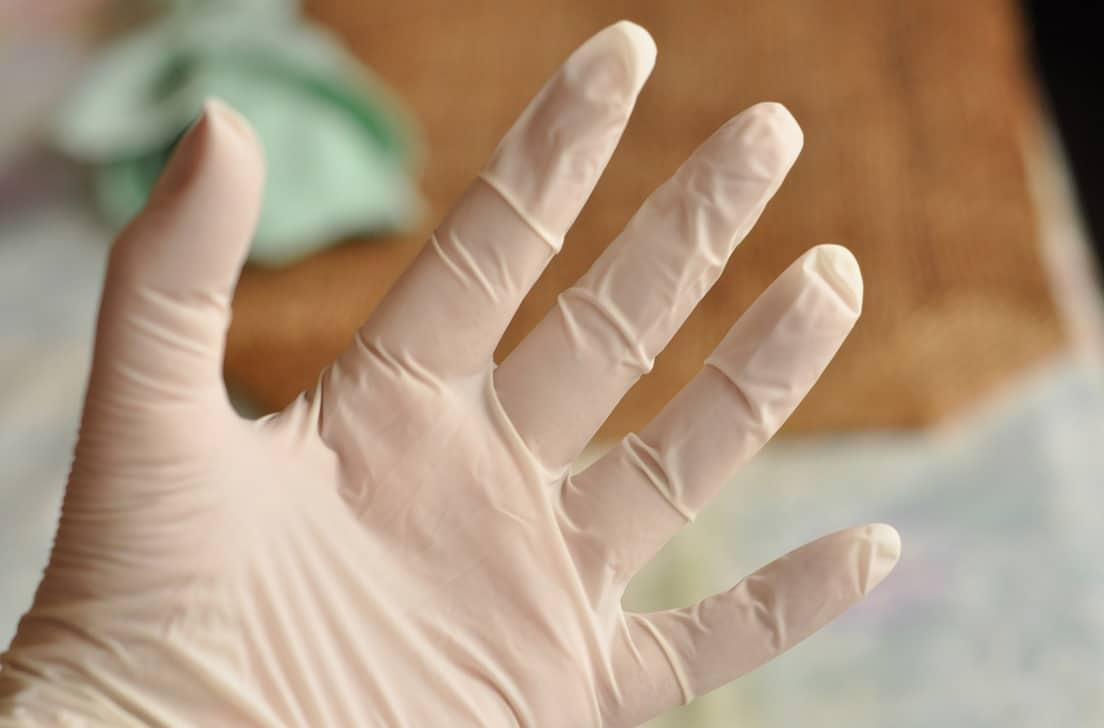gloves: (0, 20, 931, 725)
